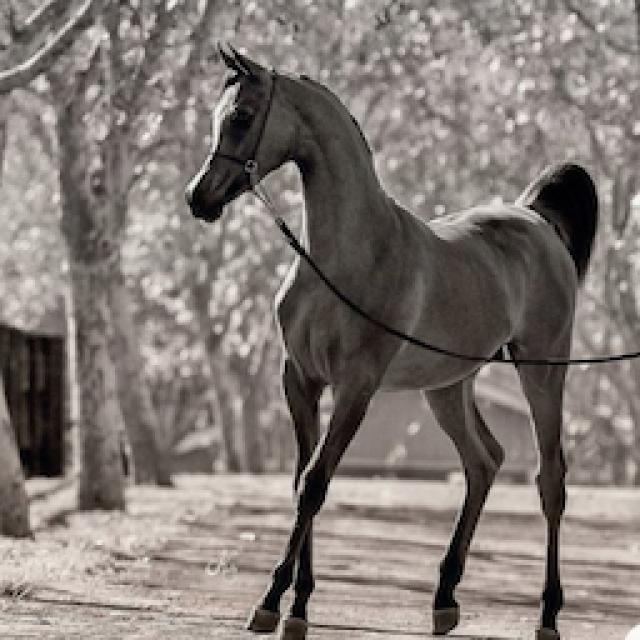Horse: (177, 38, 605, 638)
